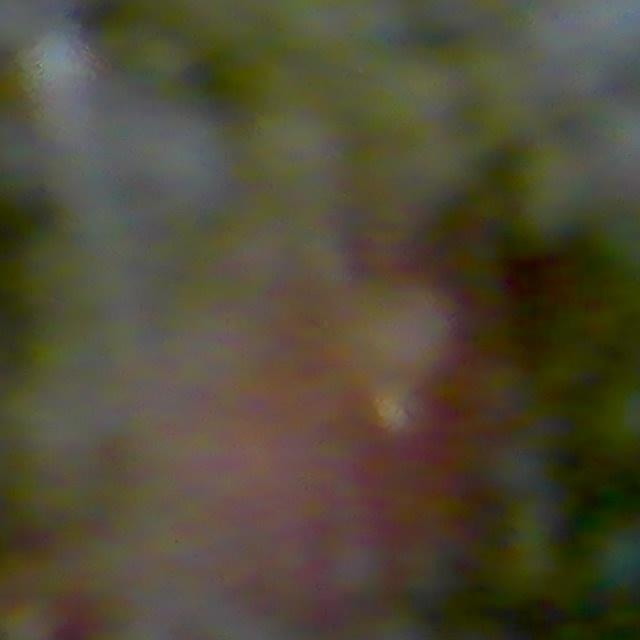SeaGrape: (17, 27, 97, 109), (589, 523, 639, 592), (595, 382, 639, 457)
